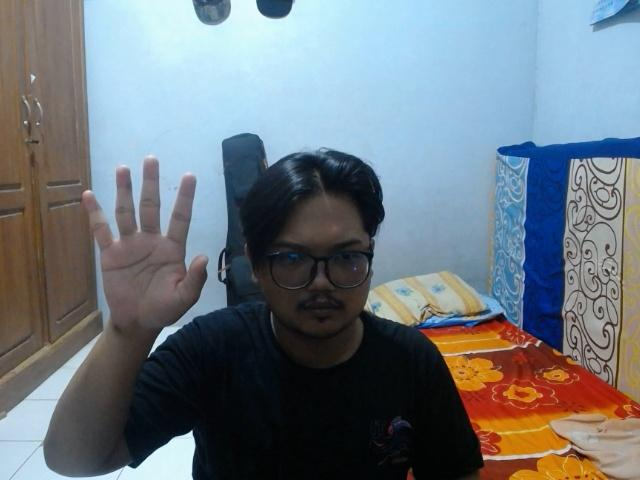Release: (78, 149, 214, 336)
